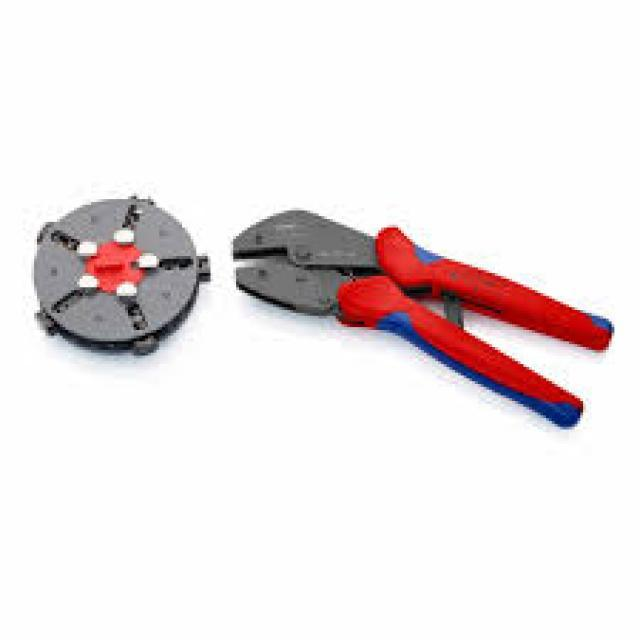pliers: (215, 197, 626, 447)
